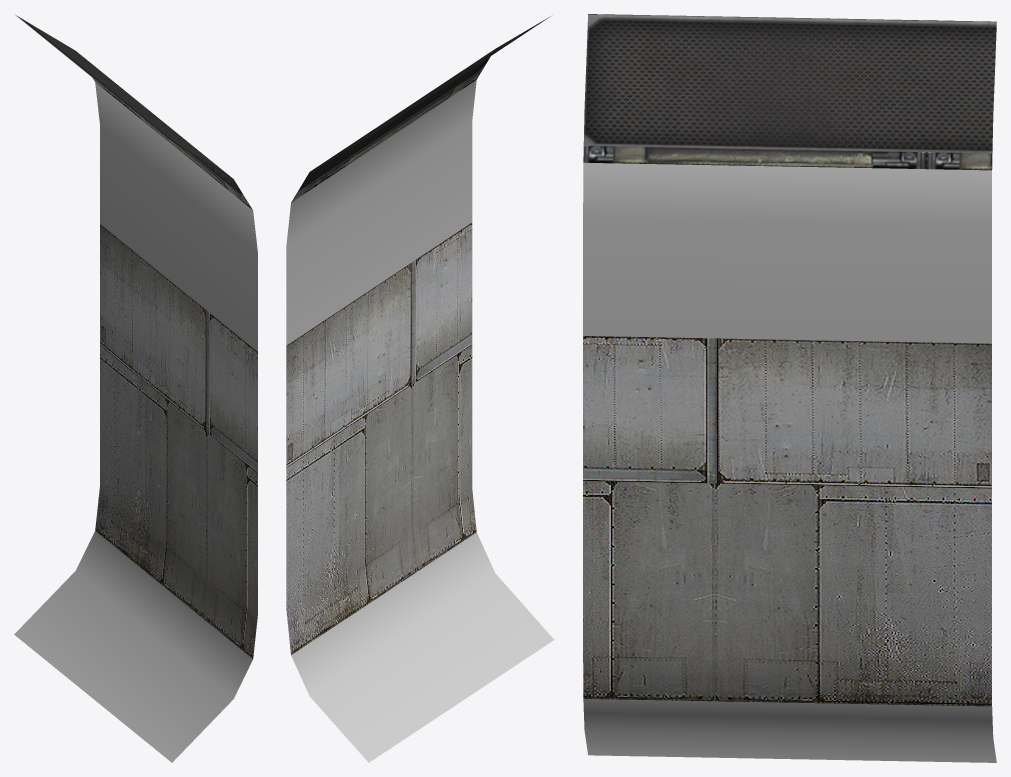
File: Wall_L_Mid4mts_06.fbx
The picture shows the model from 3 angles, left to right: view 1: azimuth 30°, elevation 25°; view 2: azimuth 150°, elevation 25°; view 3: azimuth 270°, elevation 25°; orthographic projection. The views are drawn at different scales.
Visible parts, largest first — view 1: Wall_L_Mid4mts_06; view 2: Wall_L_Mid4mts_06; view 3: Wall_L_Mid4mts_06.
Boxes of the visible parts, bbox=[...] form: Wall_L_Mid4mts_06: bbox=[14, 15, 257, 762]; Wall_L_Mid4mts_06: bbox=[286, 16, 553, 762]; Wall_L_Mid4mts_06: bbox=[583, 14, 996, 762].
Bounding box in the file's own units: 65.29 × 400 × 202.
